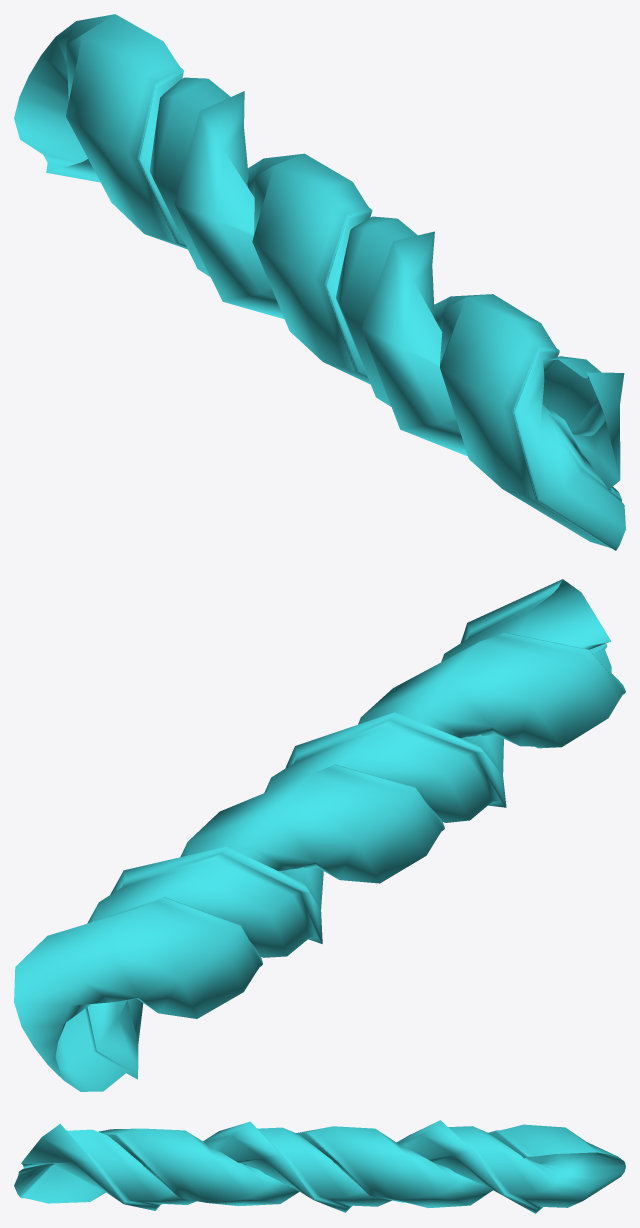
Rendered from towel_squeeze_v2.fbx.
3 views of the same model, one above another, from view 1: azimuth 30°, elevation 25°; view 2: azimuth 150°, elevation 25°; view 3: azimuth 270°, elevation 25° (orthographic). The views are drawn at different scales.
Parts seen in each view (by area): view 1: Circle; view 2: Circle; view 3: Circle.
Part boxes in pixels (box(x1,y1,x2,y2)): Circle: box(14, 14, 625, 550); Circle: box(14, 579, 625, 1091); Circle: box(14, 1120, 625, 1213).
Bounding box in the file's own units: 147 × 151 × 978.
